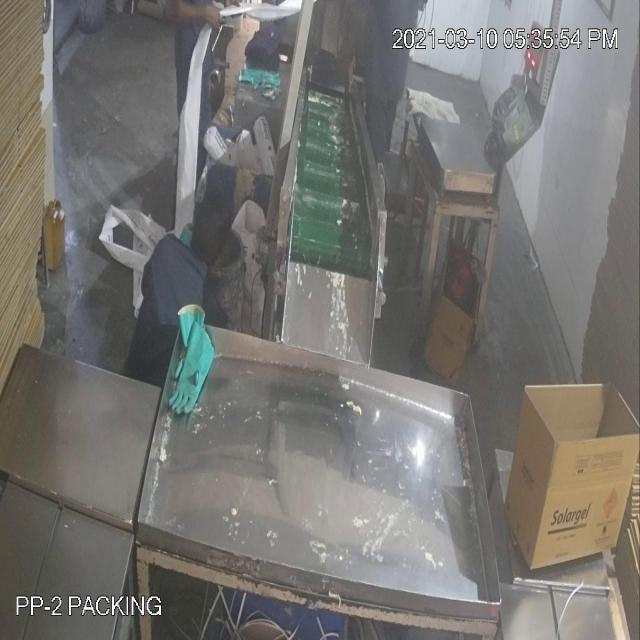No_Gloves: (158, 1, 228, 40)
